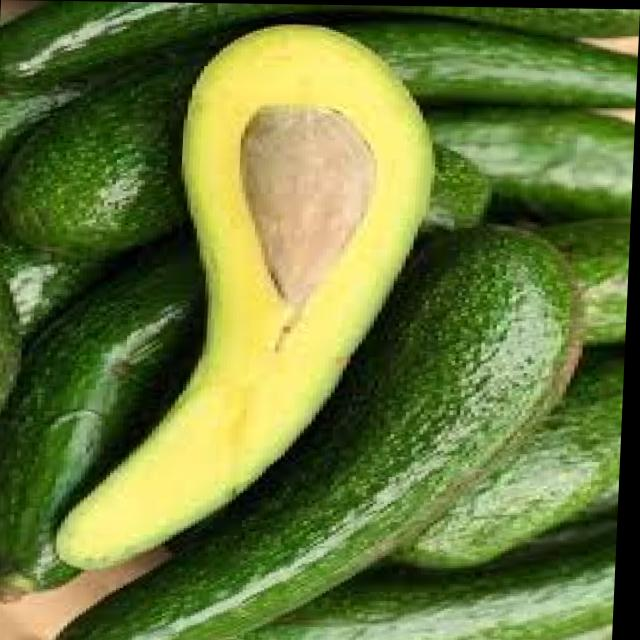Bo: (23, 207, 594, 640), (27, 11, 447, 581)
